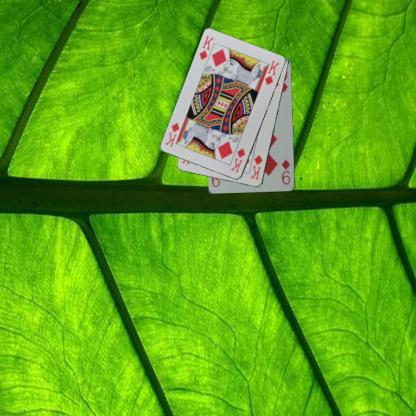9d: (279, 157, 291, 186)
Kd: (228, 146, 247, 174), (197, 33, 216, 61), (248, 152, 264, 181)
